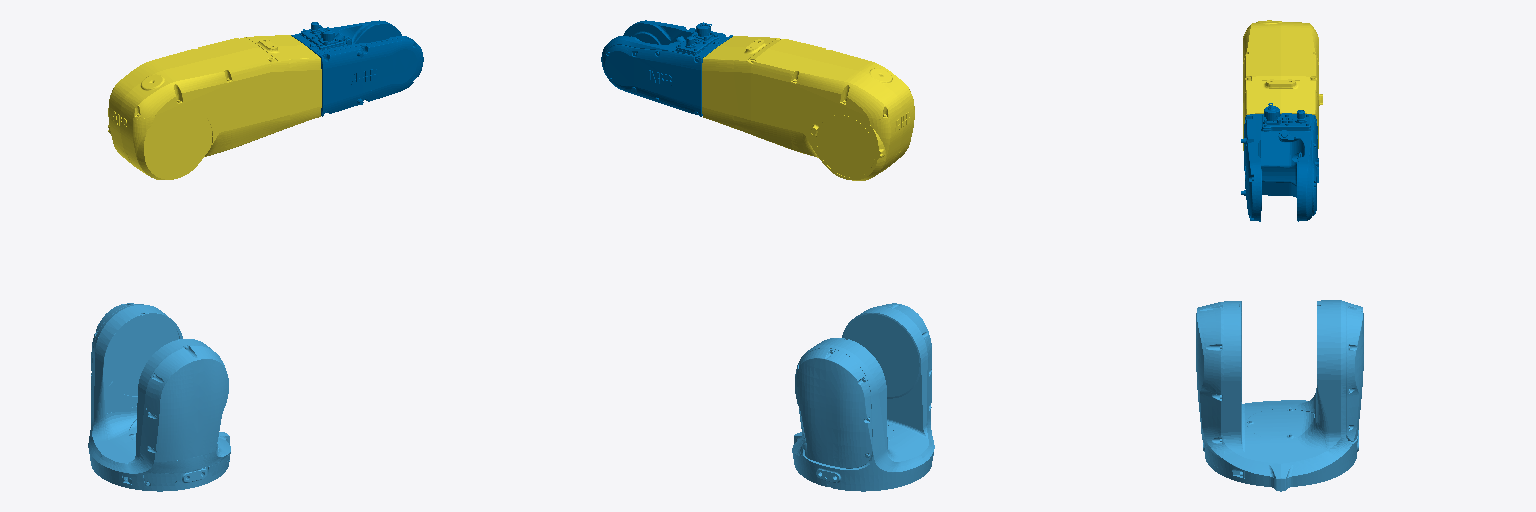
URDF robot description (IRB1200H_5_90_STD):
<?xml version="1.0" ?>
<robot name="IRB1200H_5_90_STD">

<link name="base_link">
  <inertial>
    <origin xyz="-0.023635021150547376 0.0004753411198600048 0.11218944380427551" rpy="0 0 0"/>
    <mass value="83.56281675930393"/>
    <inertia ixx="0.579272" iyy="0.781174" izz="0.698162" ixy="0.004319" iyz="-0.001283" ixz="-0.00506"/>
  </inertial>
  <visual>
    <origin xyz="0 0 0" rpy="0 0 0"/>
    <geometry>
      <mesh filename="meshes/base_link.stl" scale="0.001 0.001 0.001"/>
    </geometry>
  </visual>
  <collision>
    <origin xyz="0 0 0" rpy="0 0 0"/>
    <geometry>
      <mesh filename="meshes/base_link.stl" scale="0.001 0.001 0.001"/>
    </geometry>
  </collision>
</link>

<link name="link_1">
  <inertial>
    <origin xyz="-0.00321441381731796 0.00043113028566128483 0.10222696949562446" rpy="0 0 0"/>
    <mass value="47.66891611618349"/>
    <inertia ixx="0.595702" iyy="0.377702" izz="0.434187" ixy="-0.000172" iyz="0.000732" ixz="-0.004245"/>
  </inertial>
  <visual>
    <origin xyz="0.0 0.0 -0.219" rpy="0 0 0"/>
    <geometry>
      <mesh filename="meshes/link_1.stl" scale="0.001 0.001 0.001"/>
    </geometry>
  </visual>
  <collision>
    <origin xyz="0.0 0.0 -0.219" rpy="0 0 0"/>
    <geometry>
      <mesh filename="meshes/link_1.stl" scale="0.001 0.001 0.001"/>
    </geometry>
  </collision>
</link>

<link name="link_2">
  <inertial>
    <origin xyz="-0.01233108657315479 -0.061156507612509445 0.2184644524959074" rpy="0 0 0"/>
    <mass value="62.596941650298746"/>
    <inertia ixx="2.095914" iyy="1.92136" izz="0.339085" ixy="0.00046" iyz="0.0027" ixz="-0.008483"/>
  </inertial>
  <visual>
    <origin xyz="0.0 -0.06 -0.3991" rpy="0 0 0"/>
    <geometry>
      <mesh filename="meshes/link_2.stl" scale="0.001 0.001 0.001"/>
    </geometry>
  </visual>
  <collision>
    <origin xyz="0.0 -0.06 -0.3991" rpy="0 0 0"/>
    <geometry>
      <mesh filename="meshes/link_2.stl" scale="0.001 0.001 0.001"/>
    </geometry>
  </collision>
</link>

<link name="link_3">
  <inertial>
    <origin xyz="0.09811895116802803 -0.06379568686425939 0.03502819908986721" rpy="0 0 0"/>
    <mass value="50.251919251788294"/>
    <inertia ixx="0.15986" iyy="0.614625" izz="0.56594" ixy="0.000967" iyz="0.000343" ixz="-0.040913"/>
  </inertial>
  <visual>
    <origin xyz="-0.0 -0.064 -0.8471" rpy="0 0 0"/>
    <geometry>
      <mesh filename="meshes/link_3.stl" scale="0.001 0.001 0.001"/>
    </geometry>
  </visual>
  <collision>
    <origin xyz="-0.0 -0.064 -0.8471" rpy="0 0 0"/>
    <geometry>
      <mesh filename="meshes/link_3.stl" scale="0.001 0.001 0.001"/>
    </geometry>
  </collision>
</link>

<link name="link_4">
  <inertial>
    <origin xyz="0.07074254364387844 0.0016278688336306337 0.0016065194252506965" rpy="0 0 0"/>
    <mass value="14.103086555281287"/>
    <inertia ixx="0.029391" iyy="0.05769" izz="0.061943" ixy="-0.001377" iyz="-1e-05" ixz="0.000485"/>
  </inertial>
  <visual>
    <origin xyz="-0.2885 -0.0 -0.888589" rpy="0 0 0"/>
    <geometry>
      <mesh filename="meshes/link_4.stl" scale="0.001 0.001 0.001"/>
    </geometry>
  </visual>
  <collision>
    <origin xyz="-0.2885 -0.0 -0.888589" rpy="0 0 0"/>
    <geometry>
      <mesh filename="meshes/link_4.stl" scale="0.001 0.001 0.001"/>
    </geometry>
  </collision>
</link>

<link name="link_5">
  <inertial>
    <origin xyz="0.013857332914444742 -0.027942297667688586 6.637616500093646e-05" rpy="0 0 0"/>
    <mass value="4.542326712154526"/>
    <inertia ixx="0.003479" iyy="0.008928" izz="0.007834" ixy="-0.000177" iyz="-4e-06" ixz="1.2e-05"/>
  </inertial>
  <visual>
    <origin xyz="-0.450991 -0.0255 -0.8891" rpy="0 0 0"/>
    <geometry>
      <mesh filename="meshes/link_5.stl" scale="0.001 0.001 0.001"/>
    </geometry>
  </visual>
  <collision>
    <origin xyz="-0.450991 -0.0255 -0.8891" rpy="0 0 0"/>
    <geometry>
      <mesh filename="meshes/link_5.stl" scale="0.001 0.001 0.001"/>
    </geometry>
  </collision>
</link>

<link name="link_6">
  <inertial>
    <origin xyz="0.002845713618856882 7.306126168841773e-08 -0.0003669972967227375" rpy="0 0 0"/>
    <mass value="0.03668180966446797"/>
    <inertia ixx="1e-05" iyy="5e-06" izz="5e-06" ixy="0.0" iyz="-0.0" ixz="-0.0"/>
  </inertial>
  <visual>
    <origin xyz="-0.5365 1.4e-05 -0.889112" rpy="0 0 0"/>
    <geometry>
      <mesh filename="meshes/link_6.stl" scale="0.001 0.001 0.001"/>
    </geometry>
  </visual>
  <collision>
    <origin xyz="-0.5365 1.4e-05 -0.889112" rpy="0 0 0"/>
    <geometry>
      <mesh filename="meshes/link_6.stl" scale="0.001 0.001 0.001"/>
    </geometry>
  </collision>
</link>

<joint name="joint_1" type="revolute">
  <origin xyz="0.0 0.0 0.219" rpy="0 0 0"/>
  <parent link="base_link"/>
  <child link="link_1"/>
  <axis xyz="0.0 0.0 -1.0"/>
  <limit lower="-2.9671" upper="2.9671" effort="0" velocity="5.0265"/>
</joint>

<joint name="joint_2" type="revolute">
  <origin xyz="0.0 0.06 0.1801" rpy="0 0 0"/>
  <parent link="link_1"/>
  <child link="link_2"/>
  <axis xyz="0.0 -1.0 0.0"/>
  <limit lower="-1.7453" upper="2.2689" effort="0" velocity="3.9095"/>
</joint>

<joint name="joint_3" type="revolute">
  <origin xyz="0.0 0.004 0.448" rpy="0 0 0"/>
  <parent link="link_2"/>
  <child link="link_3"/>
  <axis xyz="0.0 -1.0 0.0"/>
  <limit lower="-3.4907" upper="1.2217" effort="0" velocity="5.1836"/>
</joint>

<joint name="joint_4" type="revolute">
  <origin xyz="0.2885 -0.064 0.041489" rpy="0 0 0"/>
  <parent link="link_3"/>
  <child link="link_4"/>
  <axis xyz="1.0 0.0 0.0"/>
  <limit lower="-4.7124" upper="4.7124" effort="0" velocity="6.9813"/>
</joint>

<joint name="joint_5" type="revolute">
  <origin xyz="0.162491 0.0255 0.000511" rpy="0 0 0"/>
  <parent link="link_4"/>
  <child link="link_5"/>
  <axis xyz="0.0 -1.0 0.0"/>
  <limit lower="-2.2689" upper="2.2689" effort="0" velocity="7.0686"/>
</joint>

<joint name="joint_6" type="revolute">
  <origin xyz="0.085509 -0.025514 1.2e-05" rpy="0 0 0"/>
  <parent link="link_5"/>
  <child link="link_6"/>
  <axis xyz="1.0 0.0 0.0"/>
  <limit lower="-6.9813" upper="6.9813" effort="0" velocity="10.4719"/>
</joint>

<link name="flange">
</link>

<joint name="joint_6-flange" type="fixed">
  <origin xyz="0.0 0.0 0.0" rpy="0 1.57 0"/>
  <parent link="link_6"/>
  <child link="flange"/>
</joint>

<link name="tool0">
</link>

<joint name="flange-tool0" type="fixed">
  <origin xyz="0.0 0.0 0.0" rpy="0 0 0"/>
  <parent link="flange"/>
  <child link="tool0"/>
</joint>

</robot>

--- Facts derived from the render (not from the file) ---
The picture shows the robot from 3 angles, left to right: view 1: azimuth 30°, elevation 25°; view 2: azimuth 150°, elevation 25°; view 3: azimuth 270°, elevation 25°; orthographic projection.
Model IRB1200H_5_90_STD with 9 links and 8 joints (6 revolute, 2 fixed), rooted at base_link, posed every joint at zero.
Visible links, largest first — view 1: link_1, link_3, link_4; view 2: link_1, link_3, link_4; view 3: link_1, link_4, link_3.
Boxes of the visible links, bbox=[...] form: link_1: bbox=[88, 303, 230, 491]; link_3: bbox=[108, 35, 321, 179]; link_4: bbox=[291, 20, 423, 116]; link_1: bbox=[792, 303, 934, 491]; link_3: bbox=[702, 36, 914, 180]; link_4: bbox=[601, 20, 732, 116]; link_1: bbox=[1196, 300, 1363, 491]; link_4: bbox=[1241, 103, 1318, 221]; link_3: bbox=[1243, 20, 1322, 150].
Size in the robot's own frame: 0.6243 by 0.2636 by 0.7586 metres.
3 mesh visuals loaded from 7 distinct referenced files (3 binary STL); not drawn: 4 (reference not matched to a file when rendering).